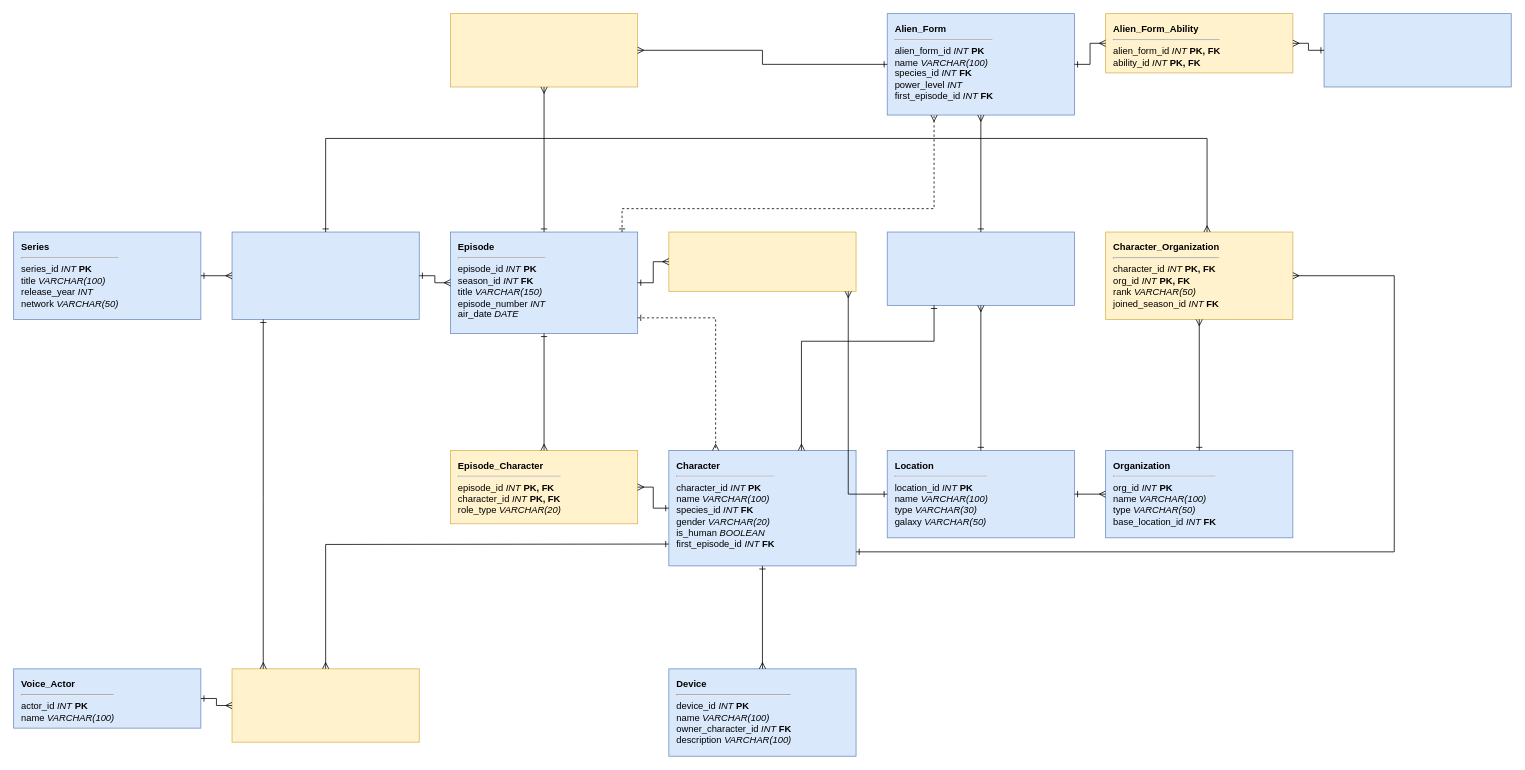
This 1525x770 diagram has some shape labels left out. The box of each missing label's shape, as (x1, y1, x2, y2) in pixels:
Ability ability_id INT PK name VARCHAR(100) description VARCHAR(100): (1323, 13, 1511, 87)
Character_Voice character_id INT PK, FK actor_id INT PK, FK season_id INT PK, FK: (231, 668, 419, 742)
Episode_Alien_Form episode_id INT PK, FK alien_form_id INT PK, FK times_used INT: (450, 13, 638, 87)
Episode_Location episode_id INT PK, FK location_id INT PK, FK: (668, 231, 856, 291)
Season season_id INT PK series_id INT FK season_number INT year INT: (231, 231, 419, 319)
Species species_id INT PK name VARCHAR(100) homeworld_id INT FK: (886, 231, 1074, 305)
